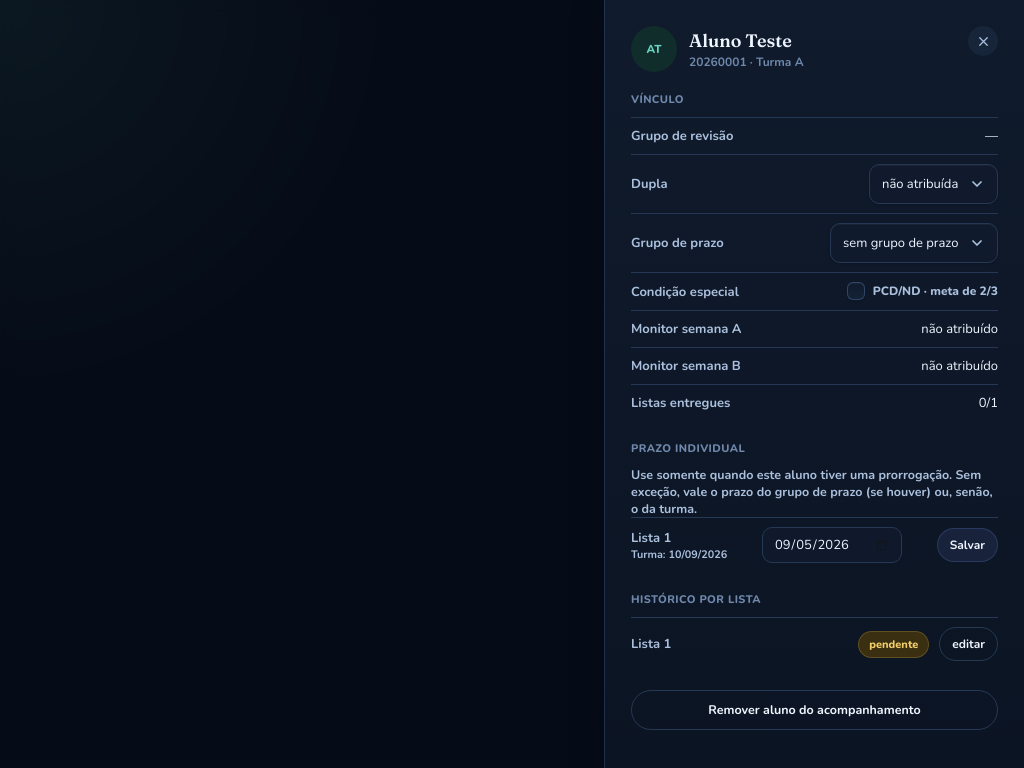
Scenario: AlunoDrawer — precedência de prazo efetivo › oferece 'Usar turma' ao limpar uma exceção individual quando o aluno não tem grupo com prazo para a lista
The image size is (1024, 768).
Clear the date field at (832, 545), box [762,527,902,563]
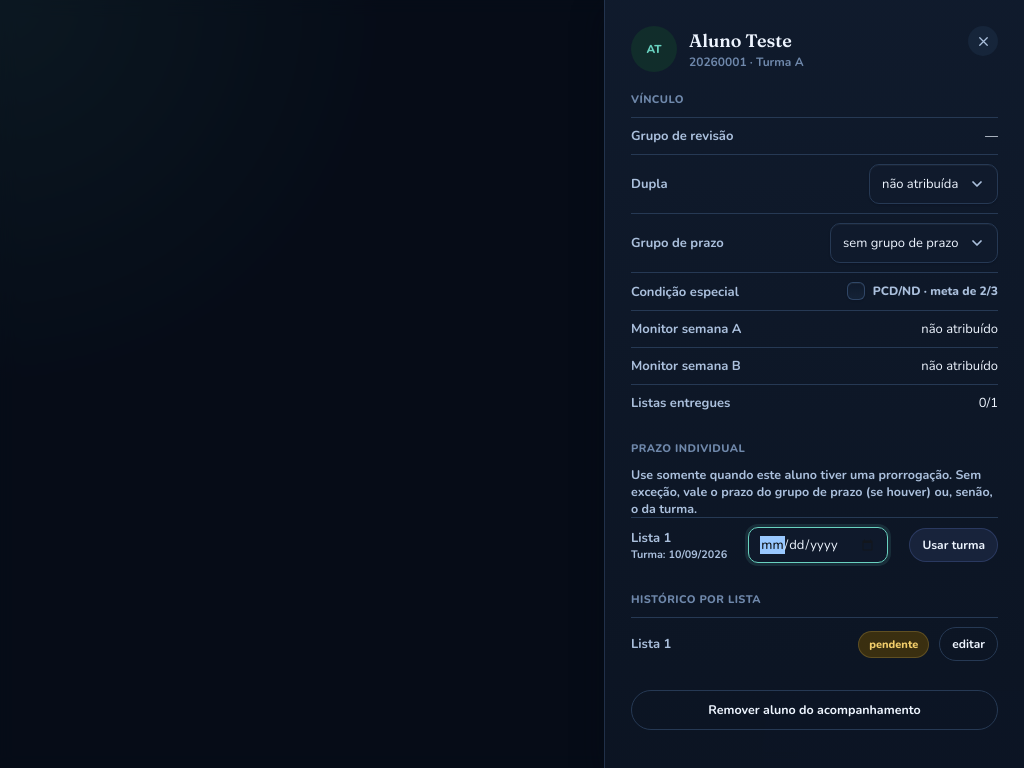
Result: the button "Usar turma" is shown at [909,528,998,562]
